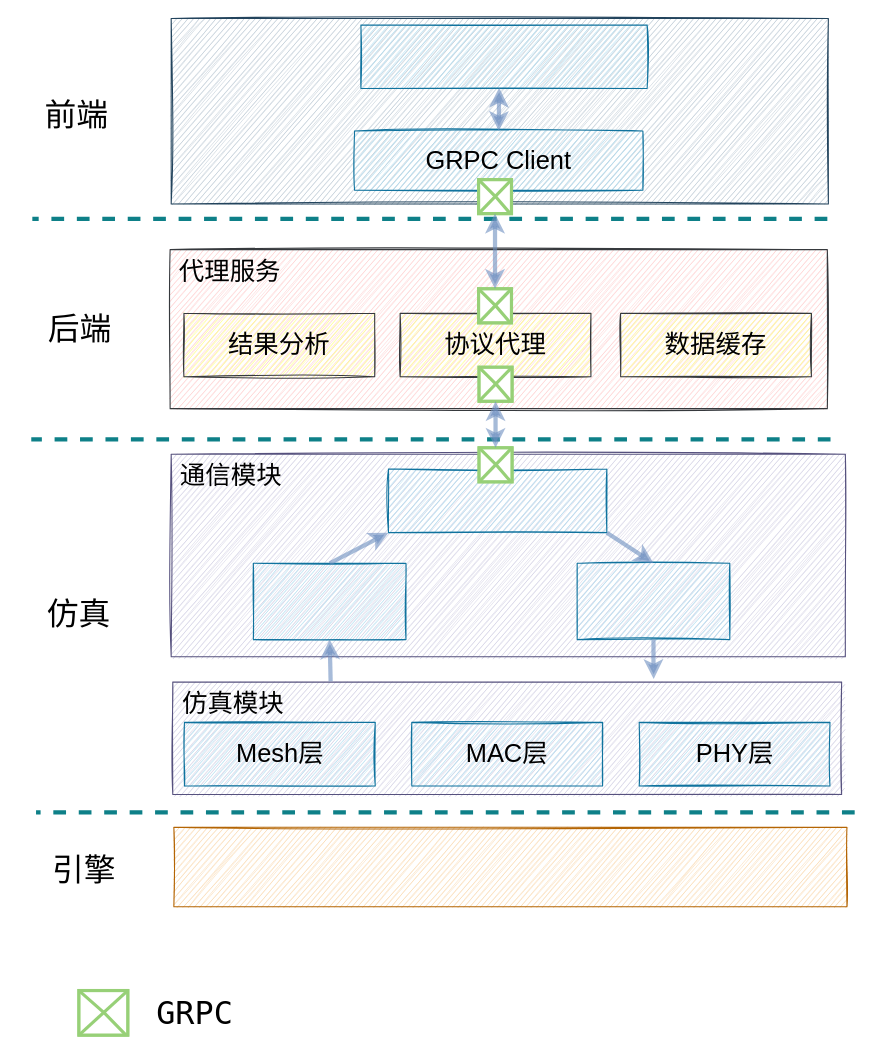
This 876x1056 diagram has some shape labels left out. The centre of each missing label's shape, as x and y in pixels:
NS3实时仿真引擎: (510,866)
Pixi 绘图组件: (503,56)
TCP Server: (497,500)
仿真事件 探针: (329,601)
仿真参数 配置管理: (653,601)
